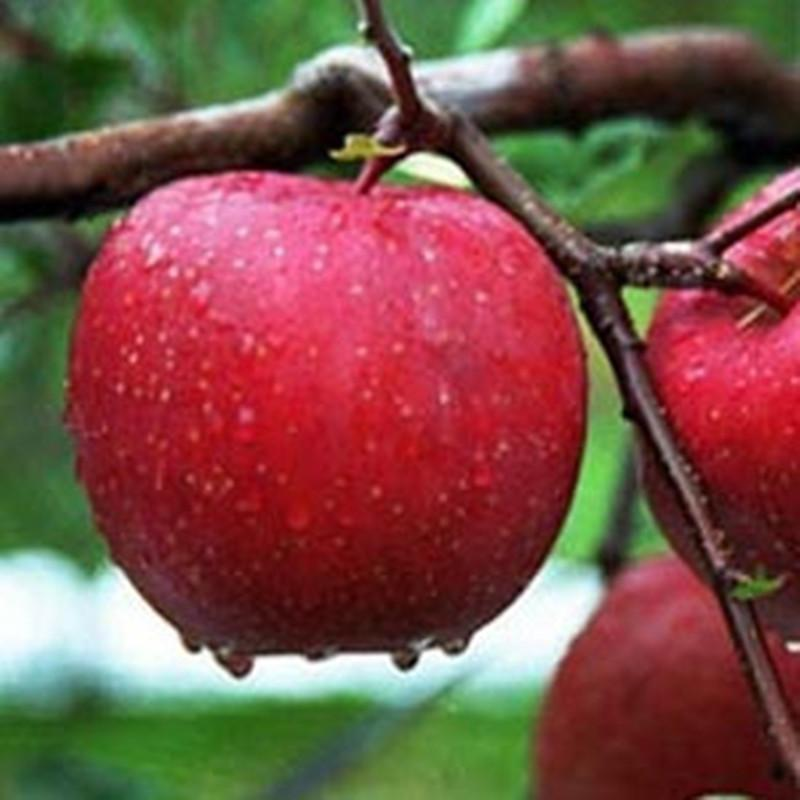apple: (62, 166, 591, 672), (636, 161, 800, 635)
